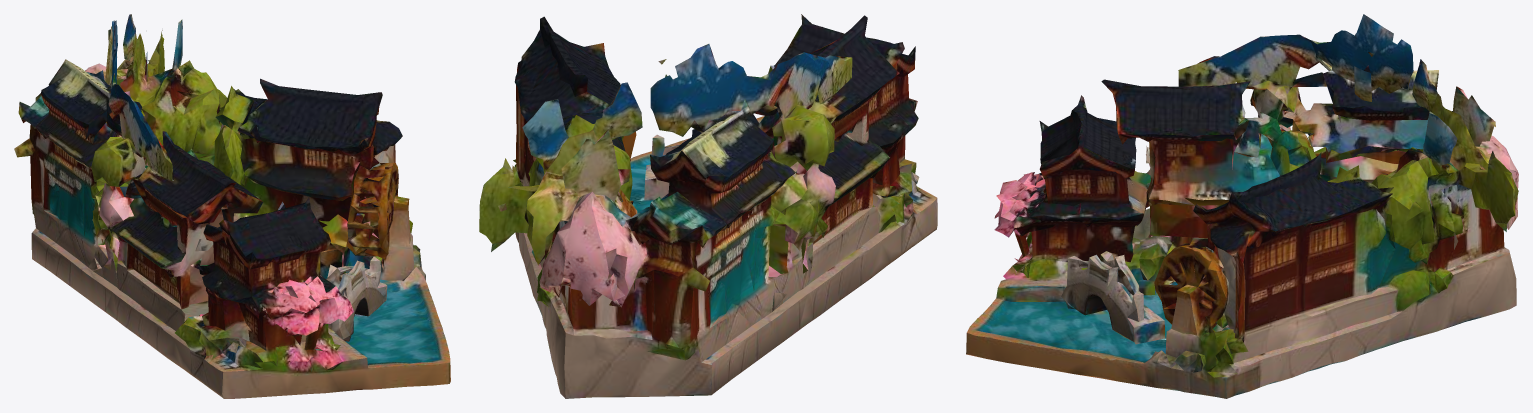
Rendered from lijiang-old-town.glb.
3 views of the same model, side by side, from view 1: azimuth 30°, elevation 25°; view 2: azimuth 150°, elevation 25°; view 3: azimuth 270°, elevation 25° (orthographic). The views are drawn at different scales.
Visible parts, largest first — view 1: logan-textured.obj; view 2: logan-textured.obj; view 3: logan-textured.obj.
Part boxes in pixels (x1,y1,x2,y2): logan-textured.obj: (14, 14, 450, 398); logan-textured.obj: (479, 14, 937, 398); logan-textured.obj: (966, 14, 1518, 398).
Size of the model in its own units: 0.6426 by 0.5344 by 1.
1 material, 1 textured.
